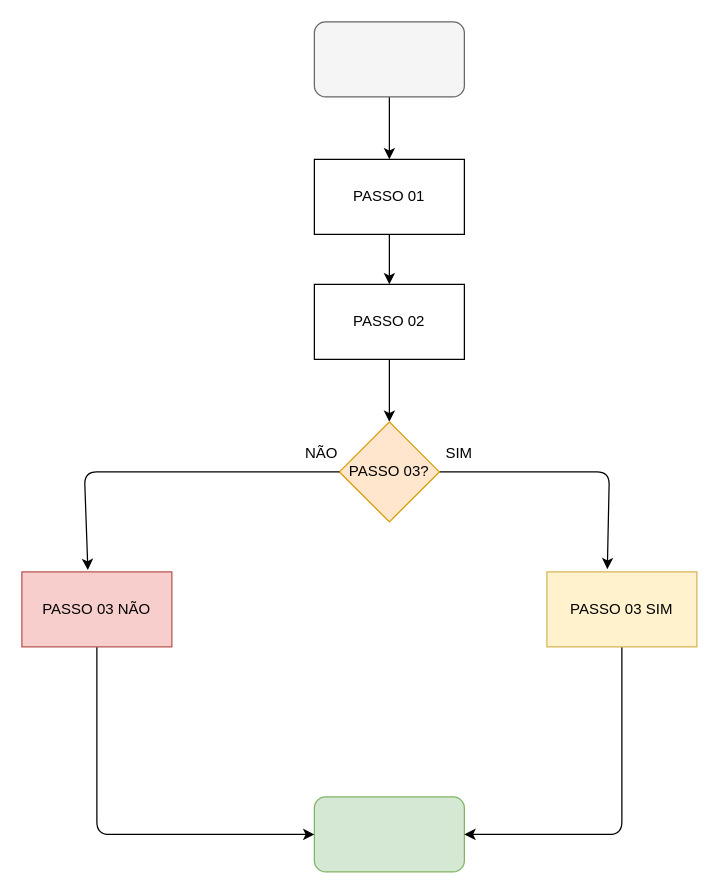
The diagram is 719 pixels wide and 894 high, and some of its shapes have lost their labels. Each missing label, with the centre of its shape:
"FIM" goes at [388,834].
"INÍCIO" goes at [388,59].
